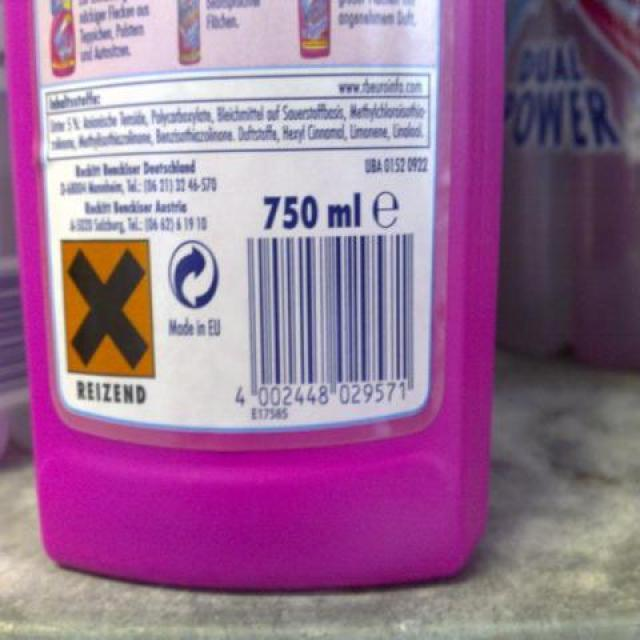Barcode: (229, 231, 426, 408)
